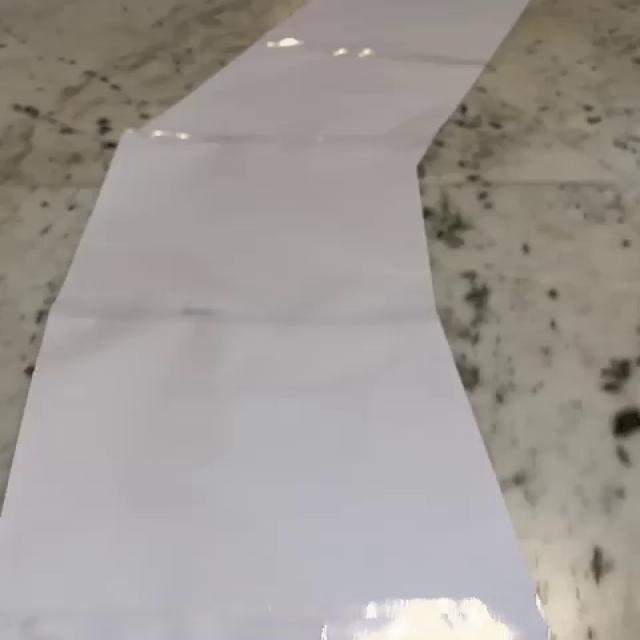road: (3, 0, 545, 640)
